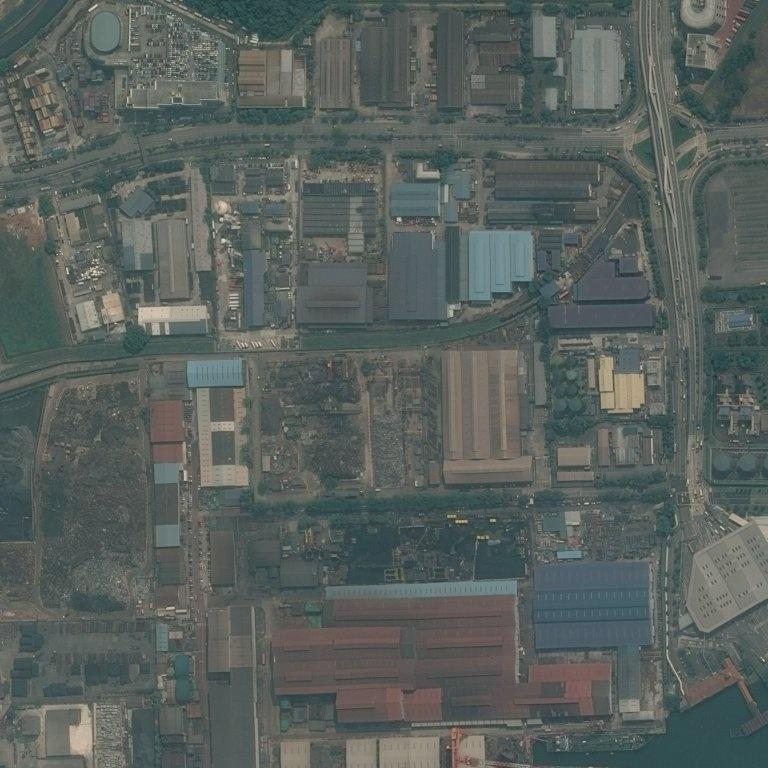ship: (545, 733, 648, 753)
